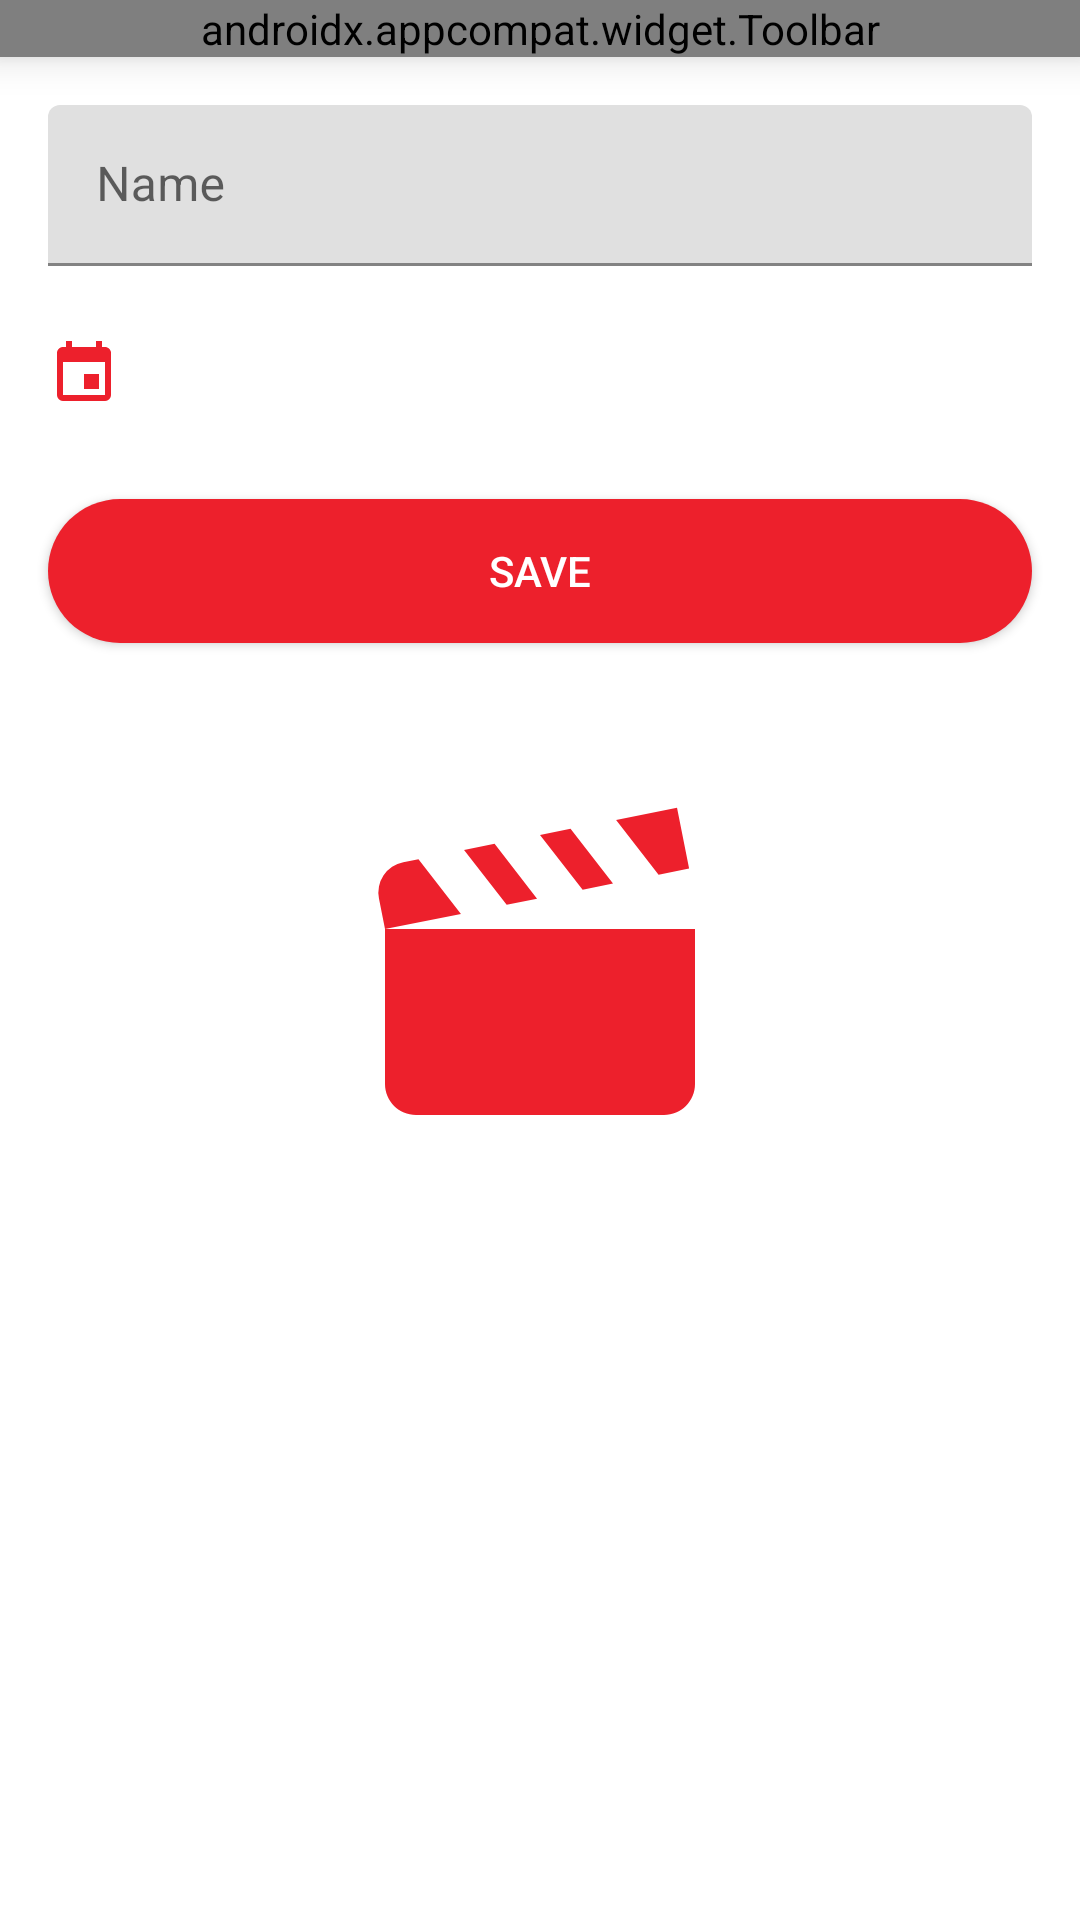

Icons on this 1080×1920 Android screen, each with its box as bbox=(x1, y1, x2, y2):
calendar: bbox=(57, 341, 111, 401)
